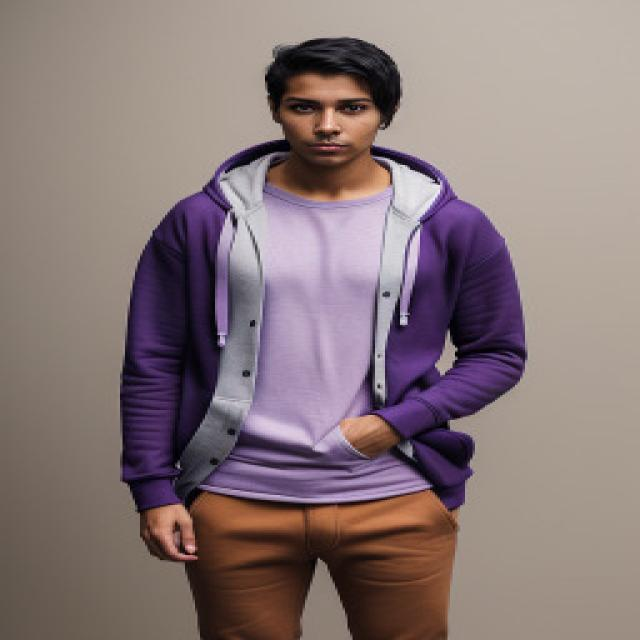Ai human 2: (105, 23, 522, 640)
